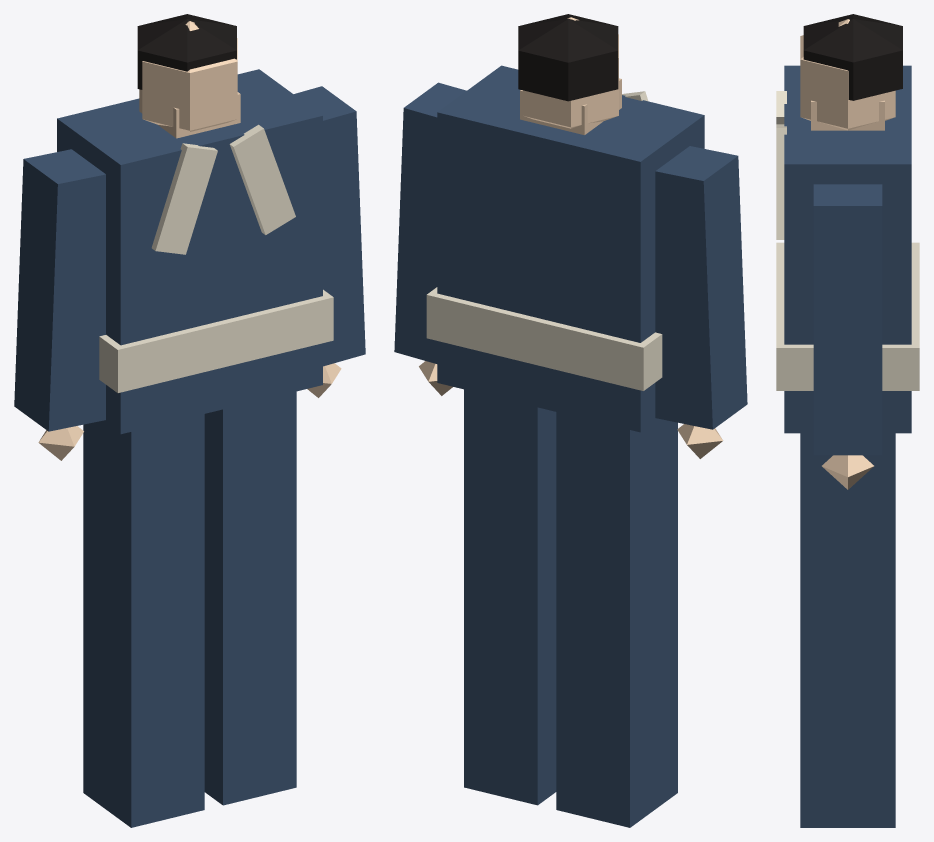
File: avatar.glb
3 renders of one model, left to right at view 1: azimuth 30°, elevation 25°; view 2: azimuth 150°, elevation 25°; view 3: azimuth 270°, elevation 25°, orthographic.
Visible parts, largest first — view 1: avatar; view 2: avatar; view 3: avatar.
Part boxes in pixels (<box>): avatar: <box>14,14,365,827</box>; avatar: <box>394,14,747,827</box>; avatar: <box>776,14,919,827</box>.
Size of the model in its own units: 0.6899 by 1.6 by 0.27.
